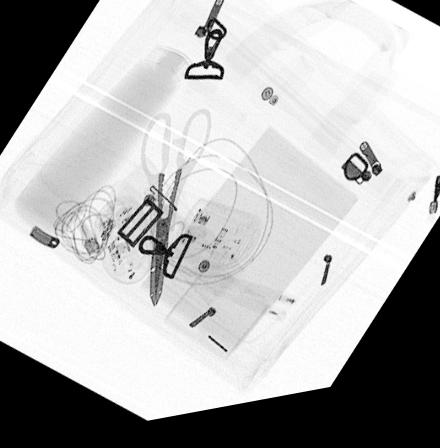Scissors: (137, 114, 211, 314)
